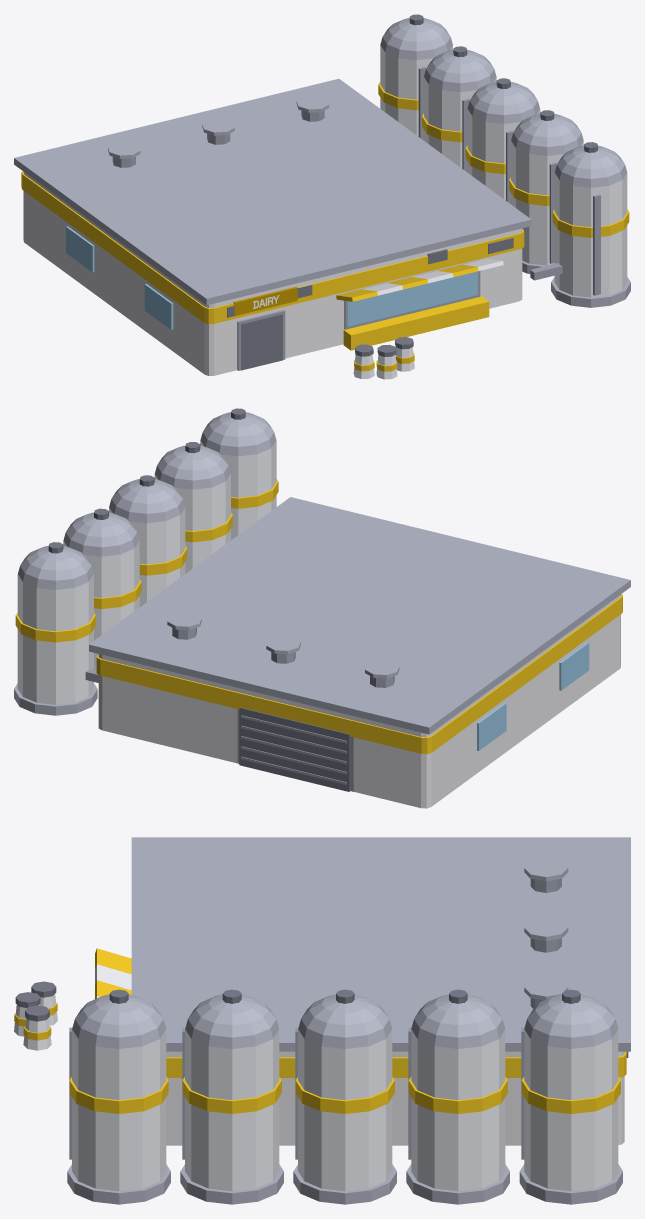
The model's file is dairy-2x2-t5-tone-a.glb.
3 renders of one model, top to bottom at view 1: azimuth 30°, elevation 25°; view 2: azimuth 150°, elevation 25°; view 3: azimuth 270°, elevation 25°, orthographic. The views are drawn at different scales.
Visible parts, largest first — view 1: dairy-2x2-t5-tone-a; view 2: dairy-2x2-t5-tone-a; view 3: dairy-2x2-t5-tone-a.
Boxes of the visible parts, x1=… form: dairy-2x2-t5-tone-a: x1=14, y1=14, x2=630, y2=379; dairy-2x2-t5-tone-a: x1=14, y1=408, x2=630, y2=808; dairy-2x2-t5-tone-a: x1=14, y1=837, x2=630, y2=1204.
Bounding box in the file's own units: 1.98 × 0.665 × 1.97.
1 material, 1 textured.
